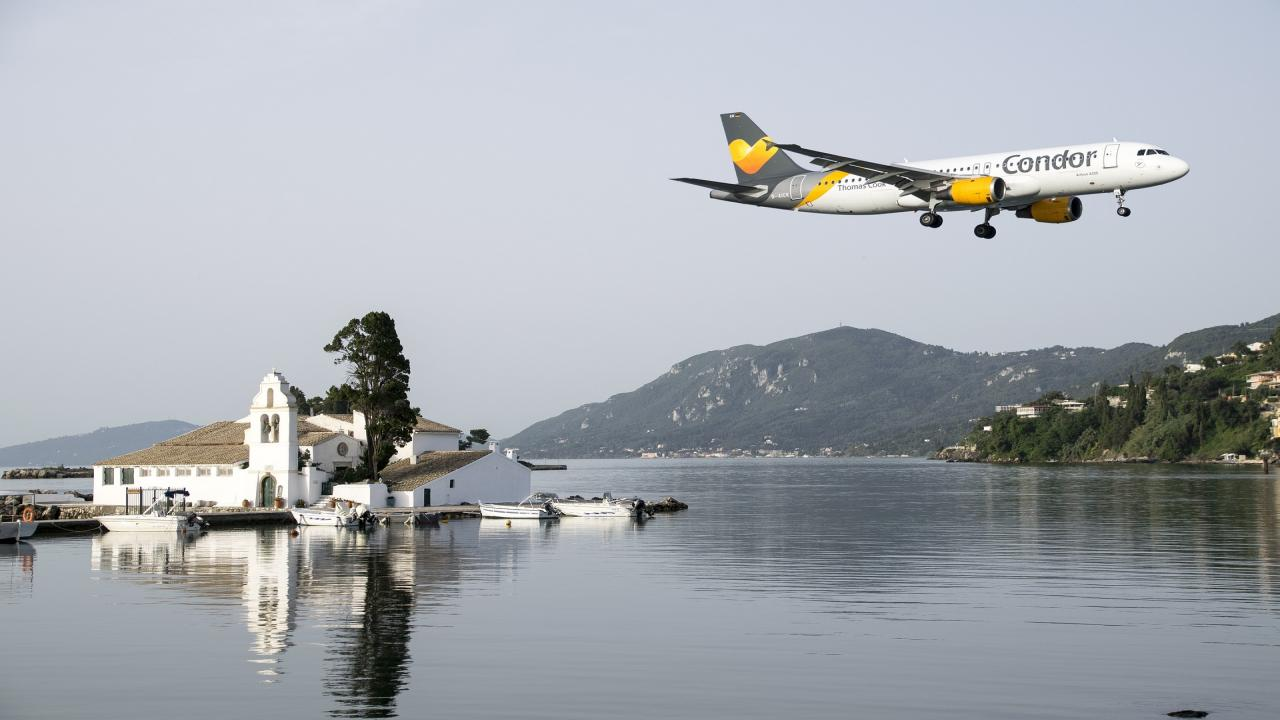Airplane: (658, 104, 1202, 249)
